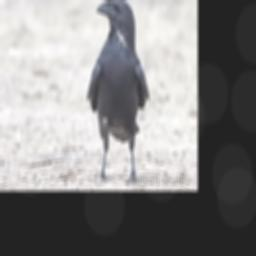Crow: (85, 0, 151, 185)
